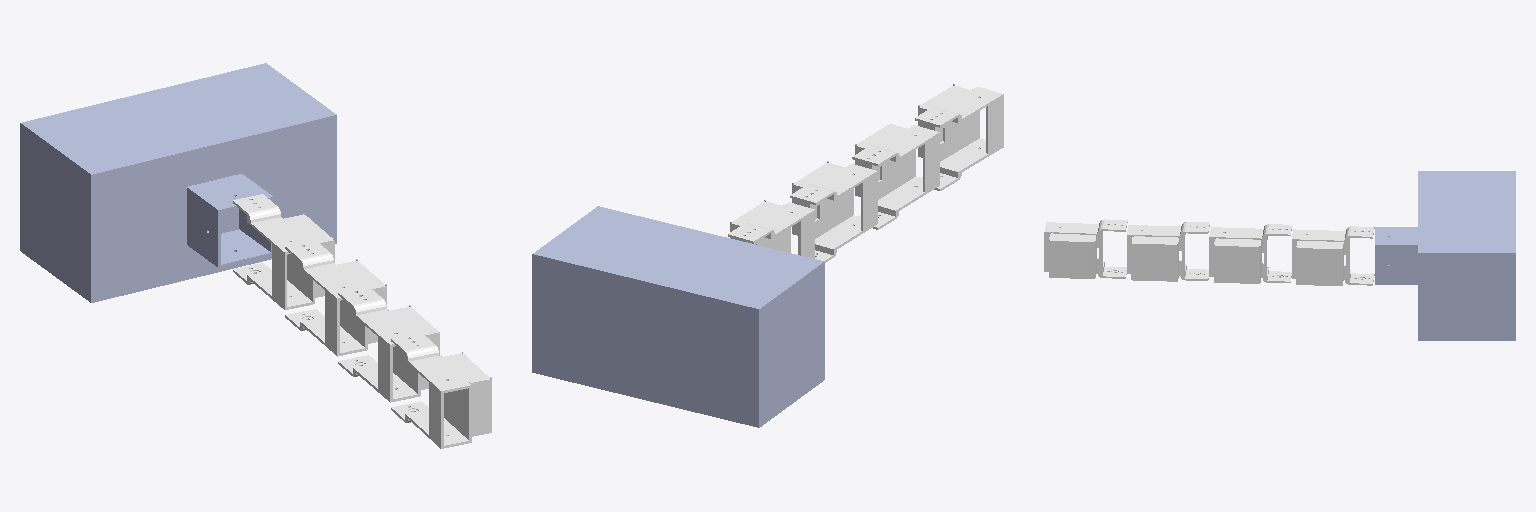
--- What the picture shows (computed from the rendered views, not written in the file) ---
The picture shows the robot from 3 angles, left to right: view 1: azimuth 30°, elevation 25°; view 2: azimuth 150°, elevation 25°; view 3: azimuth 270°, elevation 25°; orthographic projection.
Robot: robot — 21 links, 20 joints (4 revolute, 1 continuous, 15 fixed); root link base_link; default pose: all joints at 0.
Visible links, largest first — view 1: base_link, link4, link1, link2, link3; view 2: base_link, link4, link3, link2, link1; view 3: base_link, link4, link3, link2, link1.
Link boxes in pixels (x1,y1,x2,y2): base_link: (20, 63, 336, 302); link4: (391, 332, 491, 448); link1: (233, 194, 334, 309); link2: (285, 240, 386, 356); link3: (338, 286, 439, 402); base_link: (532, 206, 824, 427); link4: (915, 86, 1003, 190); link3: (852, 124, 939, 229); link2: (790, 163, 877, 262); link1: (728, 201, 814, 258); base_link: (1375, 171, 1515, 340); link4: (1044, 219, 1127, 278); link3: (1127, 222, 1209, 281); link2: (1209, 224, 1291, 283); link1: (1292, 226, 1374, 285).
Bounding box of the posed robot: 0.2 × 0.4851 × 0.1 m (x, y, z).
Meshes: 21 distinct files referenced, 20 mesh visuals loaded (20 binary STL); not drawn: 1 (reference not matched to a file when rendering).

URDF robot description (robot):
<?xml version="1.0" encoding="utf-8"?>
<!-- This URDF was automatically created by SolidWorks to URDF Exporter! Originally created by Stephen Brawner ([email redacted]) 
     Commit Version: 1.6.0-4-g7f85cfe  Build Version: 1.6.7995.38578
     For more information, please see http://wiki.ros.org/sw_urdf_exporter -->
<robot
  name="robot">
  <link
    name="base_link">
    <inertial>
      <origin
        xyz="0.0767869538456745 0.130679643791146 0.117001328831927"
        rpy="0 0 0" />
      <mass
        value="2.01544073009183" />
      <inertia
        ixx="0.00342121118023554"
        ixy="7.6215930437138E-20"
        ixz="-6.41720559009519E-19"
        iyy="0.00842121118023554"
        iyz="9.0429788488783E-20"
        izz="0.00834287663238851" />
    </inertial>
    <visual>
      <origin
        xyz="0 0 0"
        rpy="0 0 0" />
      <geometry>
        <mesh
          filename="package://robot/meshes/base_link.STL" />
      </geometry>
      <material
        name="">
        <color
          rgba="0.792156862745098 0.819607843137255 0.933333333333333 1" />
      </material>
    </visual>
    <collision>
      <origin
        xyz="0 0 0"
        rpy="0 0 0" />
      <geometry>
        <mesh
          filename="package://robot/meshes/base_link.STL" />
      </geometry>
    </collision>
  </link>
  <link
    name="link1">
    <inertial>
      <origin
        xyz="-0.0404047213887097 0.0154484736764687 -0.0276170125006411"
        rpy="0 0 0" />
      <mass
        value="0.0515137042914562" />
      <inertia
        ixx="1.69733943850497E-05"
        ixy="9.62296125977832E-07"
        ixz="6.49740529829731E-08"
        iyy="2.64576821046423E-05"
        iyz="1.35130974809218E-08"
        izz="2.12644109140584E-05" />
    </inertial>
    <visual>
      <origin
        xyz="0 0 0"
        rpy="0 0 0" />
      <geometry>
        <mesh
          filename="package://robot/meshes/link1.STL" />
      </geometry>
      <material
        name="">
        <color
          rgba="1 1 1 1" />
      </material>
    </visual>
    <collision>
      <origin
        xyz="0 0 0"
        rpy="0 0 0" />
      <geometry>
        <mesh
          filename="package://robot/meshes/link1.STL" />
      </geometry>
    </collision>
  </link>
  <joint
    name="joint1"
    type="revolute">
    <origin
      xyz="0.076787 -0.22445 0.10293"
      rpy="3.1416 0 1.4999" />
    <parent
      link="base_link" />
    <child
      link="link1" />
    <axis
      xyz="0 0 -1" />
    <limit
      lower="-3.14"
      upper="3.14"
      effort="100"
      velocity="1" />
  </joint>
  <link
    name="l11">
    <inertial>
      <origin
        xyz="-0.00424576271186444 0.0005 0.000500000000000014"
        rpy="0 0 0" />
      <mass
        value="9.9999999999999E-07" />
      <inertia
        ixx="1.66666666666666E-13"
        ixy="3.5759750509846E-30"
        ixz="-4.97771231194458E-28"
        iyy="1.66666666666663E-13"
        iyz="-3.4912381323187E-29"
        izz="1.66666666666662E-13" />
    </inertial>
    <visual>
      <origin
        xyz="0 0 0"
        rpy="0 0 0" />
      <geometry>
        <mesh
          filename="package://robot/meshes/l11.STL" />
      </geometry>
      <material
        name="">
        <color
          rgba="0.792156862745098 0.819607843137255 0.933333333333333 1" />
      </material>
    </visual>
    <collision>
      <origin
        xyz="0 0 0"
        rpy="0 0 0" />
      <geometry>
        <mesh
          filename="package://robot/meshes/l11.STL" />
      </geometry>
    </collision>
  </link>
  <joint
    name="j11"
    type="fixed">
    <origin
      xyz="-0.022746 0.03 -0.048625"
      rpy="-1.5708 0 -3.1416" />
    <parent
      link="link1" />
    <child
      link="l11" />
    <axis
      xyz="0 0 0" />
  </joint>
  <link
    name="l12">
    <inertial>
      <origin
        xyz="-0.00424576271186443 0.000499999999999973 0.0005"
        rpy="0 0 0" />
      <mass
        value="9.99999999999991E-07" />
      <inertia
        ixx="1.66666666666665E-13"
        ixy="8.08583006419564E-30"
        ixz="-3.38421328339814E-28"
        iyy="1.66666666666665E-13"
        iyz="1.2121848489944E-29"
        izz="1.66666666666665E-13" />
    </inertial>
    <visual>
      <origin
        xyz="0 0 0"
        rpy="0 0 0" />
      <geometry>
        <mesh
          filename="package://robot/meshes/l12.STL" />
      </geometry>
      <material
        name="">
        <color
          rgba="0.792156862745098 0.819607843137255 0.933333333333333 1" />
      </material>
    </visual>
    <collision>
      <origin
        xyz="0 0 0"
        rpy="0 0 0" />
      <geometry>
        <mesh
          filename="package://robot/meshes/l12.STL" />
      </geometry>
    </collision>
  </link>
  <joint
    name="j12"
    type="fixed">
    <origin
      xyz="-0.0650000000000002 0.0337457627118641 -0.0486249999999999"
      rpy="-1.5707963267949 0 1.5707963267949" />
    <parent
      link="link1" />
    <child
      link="l12" />
    <axis
      xyz="0 0 0" />
  </joint>
  <link
    name="l13">
    <inertial>
      <origin
        xyz="-0.0005 0.000500000000000111 -0.000570670988878433"
        rpy="0 0 0" />
      <mass
        value="1.00000000000001E-06" />
      <inertia
        ixx="1.66666666666669E-13"
        ixy="1.84061188400856E-27"
        ixz="2.34922777574817E-27"
        iyy="1.6666666666667E-13"
        iyz="1.03898364163633E-30"
        izz="1.6666666666667E-13" />
    </inertial>
    <visual>
      <origin
        xyz="0 0 0"
        rpy="0 0 0" />
      <geometry>
        <mesh
          filename="package://robot/meshes/l13.STL" />
      </geometry>
      <material
        name="">
        <color
          rgba="0.792156862745098 0.819607843137255 0.933333333333333 1" />
      </material>
    </visual>
    <collision>
      <origin
        xyz="0 0 0"
        rpy="0 0 0" />
      <geometry>
        <mesh
          filename="package://robot/meshes/l13.STL" />
      </geometry>
    </collision>
  </link>
  <joint
    name="j13"
    type="continuous">
    <origin
      xyz="-0.0660000000000003 0.0119293290111216 -0.0486249999999999"
      rpy="-1.5707963267949 0 3.14159265358979" />
    <parent
      link="link1" />
    <child
      link="l13" />
    <axis
      xyz="0 0 1" />
  </joint>
  <link
    name="l14">
    <inertial>
      <origin
        xyz="-0.00424576271186441 0.000500000000000014 0.000499999999999973"
        rpy="0 0 0" />
      <mass
        value="1.00000000000002E-06" />
      <inertia
        ixx="1.66666666666672E-13"
        ixy="-5.03882836800957E-31"
        ixz="7.29000328879928E-30"
        iyy="1.66666666666671E-13"
        iyz="2.52435489670724E-29"
        izz="1.66666666666671E-13" />
    </inertial>
    <visual>
      <origin
        xyz="0 0 0"
        rpy="0 0 0" />
      <geometry>
        <mesh
          filename="package://robot/meshes/l14.STL" />
      </geometry>
      <material
        name="">
        <color
          rgba="0.792156862745098 0.819607843137255 0.933333333333333 1" />
      </material>
    </visual>
    <collision>
      <origin
        xyz="0 0 0"
        rpy="0 0 0" />
      <geometry>
        <mesh
          filename="package://robot/meshes/l14.STL" />
      </geometry>
    </collision>
  </link>
  <joint
    name="j14"
    type="fixed">
    <origin
      xyz="-0.0179999999999998 0.0119999999999997 -0.0448792372881355"
      rpy="3.14159265358979 -1.5707963267949 0" />
    <parent
      link="link1" />
    <child
      link="l14" />
    <axis
      xyz="0 0 0" />
  </joint>
  <link
    name="link2">
    <inertial>
      <origin
        xyz="-0.0404047213887095 0.0154484736764683 -0.0273670125006411"
        rpy="0 0 0" />
      <mass
        value="0.0515137042914563" />
      <inertia
        ixx="1.69733943850497E-05"
        ixy="9.62296125977808E-07"
        ixz="6.49740529829652E-08"
        iyy="2.64576821046424E-05"
        iyz="1.35130974809183E-08"
        izz="2.12644109140584E-05" />
    </inertial>
    <visual>
      <origin
        xyz="0 0 0"
        rpy="0 0 0" />
      <geometry>
        <mesh
          filename="package://robot/meshes/link2.STL" />
      </geometry>
      <material
        name="">
        <color
          rgba="1 1 1 1" />
      </material>
    </visual>
    <collision>
      <origin
        xyz="0 0 0"
        rpy="0 0 0" />
      <geometry>
        <mesh
          filename="package://robot/meshes/link2.STL" />
      </geometry>
    </collision>
  </link>
  <joint
    name="joint2"
    type="revolute">
    <origin
      xyz="-0.085 0 0"
      rpy="0 0 0" />
    <parent
      link="link1" />
    <child
      link="link2" />
    <axis
      xyz="0 0 -1" />
    <limit
      lower="-3.14"
      upper="3.14"
      effort="100"
      velocity="1" />
  </joint>
  <link
    name="l21">
    <inertial>
      <origin
        xyz="-0.00424576271186439 0.000500000000000028 0.000500000000000056"
        rpy="0 0 0" />
      <mass
        value="1E-06" />
      <inertia
        ixx="1.66666666666668E-13"
        ixy="1.94577253656323E-28"
        ixz="1.56431117505327E-27"
        iyy="1.66666666666667E-13"
        iyz="9.96287180478988E-29"
        izz="1.66666666666666E-13" />
    </inertial>
    <visual>
      <origin
        xyz="0 0 0"
        rpy="0 0 0" />
      <geometry>
        <mesh
          filename="package://robot/meshes/l21.STL" />
      </geometry>
      <material
        name="">
        <color
          rgba="0.792156862745098 0.819607843137255 0.933333333333333 1" />
      </material>
    </visual>
    <collision>
      <origin
        xyz="0 0 0"
        rpy="0 0 0" />
      <geometry>
        <mesh
          filename="package://robot/meshes/l21.STL" />
      </geometry>
    </collision>
  </link>
  <joint
    name="j21"
    type="fixed">
    <origin
      xyz="-0.0180000000000003 0.0337457627118644 -0.0483749999999998"
      rpy="-1.5707963267949 0 1.5707963267949" />
    <parent
      link="link2" />
    <child
      link="l21" />
    <axis
      xyz="0 0 0" />
  </joint>
  <link
    name="l22">
    <inertial>
      <origin
        xyz="-0.00424576271186439 0.000500000000000028 0.000500000000000014"
        rpy="0 0 0" />
      <mass
        value="1.00000000000001E-06" />
      <inertia
        ixx="1.66666666666669E-13"
        ixy="-1.45943744114174E-29"
        ixz="2.35080549755862E-27"
        iyy="1.6666666666667E-13"
        iyz="3.04659969061029E-29"
        izz="1.6666666666667E-13" />
    </inertial>
    <visual>
      <origin
        xyz="0 0 0"
        rpy="0 0 0" />
      <geometry>
        <mesh
          filename="package://robot/meshes/l22.STL" />
      </geometry>
      <material
        name="">
        <color
          rgba="0.792156862745098 0.819607843137255 0.933333333333333 1" />
      </material>
    </visual>
    <collision>
      <origin
        xyz="0 0 0"
        rpy="0 0 0" />
      <geometry>
        <mesh
          filename="package://robot/meshes/l22.STL" />
      </geometry>
    </collision>
  </link>
  <joint
    name="j22"
    type="fixed">
    <origin
      xyz="-0.0697457627118645 0.0299999999999999 -0.0483749999999998"
      rpy="-1.5707963267949 0 -3.14159265358979" />
    <parent
      link="link2" />
    <child
      link="l22" />
    <axis
      xyz="0 0 0" />
  </joint>
  <link
    name="l23">
    <inertial>
      <origin
        xyz="-0.00424576271186444 0.000499999999999973 0.000499999999999973"
        rpy="0 0 0" />
      <mass
        value="9.99999999999999E-07" />
      <inertia
        ixx="1.66666666666665E-13"
        ixy="1.7607375404533E-27"
        ixz="-6.85915040546216E-30"
        iyy="1.66666666666668E-13"
        iyz="-5.40887263464013E-31"
        izz="1.66666666666666E-13" />
    </inertial>
    <visual>
      <origin
        xyz="0 0 0"
        rpy="0 0 0" />
      <geometry>
        <mesh
          filename="package://robot/meshes/l23.STL" />
      </geometry>
      <material
        name="">
        <color
          rgba="0.792156862745098 0.819607843137255 0.933333333333333 1" />
      </material>
    </visual>
    <collision>
      <origin
        xyz="0 0 0"
        rpy="0 0 0" />
      <geometry>
        <mesh
          filename="package://robot/meshes/l23.STL" />
      </geometry>
    </collision>
  </link>
  <joint
    name="j23"
    type="fixed">
    <origin
      xyz="-0.0697457627118642 0.0119999999999996 -0.0483750000000007"
      rpy="3.14159265358979 0 -3.14159265358979" />
    <parent
      link="link2" />
    <child
      link="l23" />
    <axis
      xyz="0 0 0" />
  </joint>
  <link
    name="l24">
    <inertial>
      <origin
        xyz="-0.00424576271184707 0.000499999999973244 0.000500000000000014"
        rpy="0 0 0" />
      <mass
        value="1.00000000000001E-06" />
      <inertia
        ixx="1.66666666666669E-13"
        ixy="-6.5455506841898E-28"
        ixz="2.05656037991118E-27"
        iyy="1.66666666666671E-13"
        iyz="3.92850989370063E-28"
        izz="1.66666666666669E-13" />
    </inertial>
    <visual>
      <origin
        xyz="0 0 0"
        rpy="0 0 0" />
      <geometry>
        <mesh
          filename="package://robot/meshes/l24.STL" />
      </geometry>
      <material
        name="">
        <color
          rgba="0.792156862745098 0.819607843137255 0.933333333333333 1" />
      </material>
    </visual>
    <collision>
      <origin
        xyz="0 0 0"
        rpy="0 0 0" />
      <geometry>
        <mesh
          filename="package://robot/meshes/l24.STL" />
      </geometry>
    </collision>
  </link>
  <joint
    name="j24"
    type="fixed">
    <origin
      xyz="-0.0227457627118562 0.0129999999999997 -0.0483750000000177"
      rpy="-1.5707963267949 0 -3.14159265358979" />
    <parent
      link="link2" />
    <child
      link="l24" />
    <axis
      xyz="0 0 0" />
  </joint>
  <link
    name="link3">
    <inertial>
      <origin
        xyz="-0.0404047213887101 0.015448473676468 -0.0271170125006416"
        rpy="0 0 0" />
      <mass
        value="0.0515137042914563" />
      <inertia
        ixx="1.69733943850497E-05"
        ixy="9.62296125977846E-07"
        ixz="6.49740529829482E-08"
        iyy="2.64576821046424E-05"
        iyz="1.35130974808098E-08"
        izz="2.12644109140585E-05" />
    </inertial>
    <visual>
      <origin
        xyz="0 0 0"
        rpy="0 0 0" />
      <geometry>
        <mesh
          filename="package://robot/meshes/link3.STL" />
      </geometry>
      <material
        name="">
        <color
          rgba="1 1 1 1" />
      </material>
    </visual>
    <collision>
      <origin
        xyz="0 0 0"
        rpy="0 0 0" />
      <geometry>
        <mesh
          filename="package://robot/meshes/link3.STL" />
      </geometry>
    </collision>
  </link>
  <joint
    name="joint3"
    type="revolute">
    <origin
      xyz="-0.085 0 0"
      rpy="0 0 0" />
    <parent
      link="link2" />
    <child
      link="link3" />
    <axis
      xyz="0 0 -1" />
    <limit
      lower="-3.14"
      upper="3.14"
      effort="100"
      velocity="1" />
  </joint>
  <link
    name="l31">
    <inertial>
      <origin
        xyz="-0.00424576271186444 0.000500000000000028 0.000499999999999973"
        rpy="0 0 0" />
      <mass
        value="1.00000000000001E-06" />
      <inertia
        ixx="1.66666666666669E-13"
        ixy="2.56746529381726E-29"
        ixz="2.38157107286223E-27"
        iyy="1.6666666666667E-13"
        iyz="1.57296505576981E-29"
        izz="1.6666666666667E-13" />
    </inertial>
    <visual>
      <origin
        xyz="0 0 0"
        rpy="0 0 0" />
      <geometry>
        <mesh
          filename="package://robot/meshes/l31.STL" />
      </geometry>
      <material
        name="">
        <color
          rgba="0.792156862745098 0.819607843137255 0.933333333333333 1" />
      </material>
    </visual>
    <collision>
      <origin
        xyz="0 0 0"
        rpy="0 0 0" />
      <geometry>
        <mesh
          filename="package://robot/meshes/l31.STL" />
      </geometry>
    </collision>
  </link>
  <joint
    name="j31"
    type="fixed">
    <origin
      xyz="-0.0227457627118653 0.0299999999999978 -0.0481250000000009"
      rpy="-1.57079632679487 0 -3.14159265358979" />
    <parent
      link="link3" />
    <child
      link="l31" />
    <axis
      xyz="0 0 0" />
  </joint>
  <link
    name="l32">
    <inertial>
      <origin
        xyz="-0.0042457627118644 0.000500000000000028 0.0005"
        rpy="0 0 0" />
      <mass
        value="1.00000000000001E-06" />
      <inertia
        ixx="1.6666666666667E-13"
        ixy="-9.19796940490373E-30"
        ixz="-2.33818372307508E-27"
        iyy="1.66666666666671E-13"
        iyz="-1.19338250791653E-29"
        izz="1.6666666666667E-13" />
    </inertial>
    <visual>
      <origin
        xyz="0 0 0"
        rpy="0 0 0" />
      <geometry>
        <mesh
          filename="package://robot/meshes/l32.STL" />
      </geometry>
      <material
        name="">
        <color
          rgba="0.792156862745098 0.819607843137255 0.933333333333333 1" />
      </material>
    </visual>
    <collision>
      <origin
        xyz="0 0 0"
        rpy="0 0 0" />
      <geometry>
        <mesh
          filename="package://robot/meshes/l32.STL" />
      </geometry>
    </collision>
  </link>
  <joint
    name="j32"
    type="fixed">
    <origin
      xyz="-0.0650000000000006 0.0167457627118633 -0.0481250000000004"
      rpy="-1.5707963267949 0 1.5707963267949" />
    <parent
      link="link3" />
    <child
      link="l32" />
    <axis
      xyz="0 0 0" />
  </joint>
  <link
    name="l33">
    <inertial>
      <origin
        xyz="-0.0042457627118644 0.000500000000000028 0.0005"
        rpy="0 0 0" />
      <mass
        value="1.00000000000001E-06" />
      <inertia
        ixx="1.6666666666667E-13"
        ixy="-9.19796940490375E-30"
        ixz="-2.33818372307508E-27"
        iyy="1.66666666666671E-13"
        iyz="-1.19338250791653E-29"
        izz="1.6666666666667E-13" />
    </inertial>
    <visual>
      <origin
        xyz="0 0 0"
        rpy="0 0 0" />
      <geometry>
        <mesh
          filename="package://robot/meshes/l33.STL" />
      </geometry>
      <material
        name="">
        <color
          rgba="0.792156862745098 0.819607843137255 0.933333333333333 1" />
      </material>
    </visual>
    <collision>
      <origin
        xyz="0 0 0"
        rpy="0 0 0" />
      <geometry>
        <mesh
          filename="package://robot/meshes/l33.STL" />
      </geometry>
    </collision>
  </link>
  <joint
    name="j33"
    type="fixed">
    <origin
      xyz="-0.0650000000000006 0.0167457627118633 -0.0481250000000004"
      rpy="-1.5707963267949 0 1.5707963267949" />
    <parent
      link="link3" />
    <child
      link="l33" />
    <axis
      xyz="0 0 0" />
  </joint>
  <link
    name="l34">
    <inertial>
      <origin
        xyz="-0.00424576271186461 0.0005 0.000499999999955703"
        rpy="0 0 0" />
      <mass
        value="9.99999999999994E-07" />
      <inertia
        ixx="1.66666666666665E-13"
        ixy="-6.29227027260607E-28"
        ixz="6.91480973098766E-28"
        iyy="1.66666666666666E-13"
        iyz="-4.84360595805701E-28"
        izz="1.66666666666665E-13" />
    </inertial>
    <visual>
      <origin
        xyz="0 0 0"
        rpy="0 0 0" />
      <geometry>
        <mesh
          filename="package://robot/meshes/l34.STL" />
      </geometry>
      <material
        name="">
        <color
          rgba="0.792156862745098 0.819607843137255 0.933333333333333 1" />
      </material>
    </visual>
    <collision>
      <origin
        xyz="0 0 0"
        rpy="0 0 0" />
      <geometry>
        <mesh
          filename="package://robot/meshes/l34.STL" />
      </geometry>
    </collision>
  </link>
  <joint
    name="j34"
    type="fixed">
    <origin
      xyz="-0.018000000000045 0.0129999999999988 -0.052870762711865"
      rpy="3.14159265358979 1.5707963267949 0" />
    <parent
      link="link3" />
    <child
      link="l34" />
    <axis
      xyz="0 0 0" />
  </joint>
  <link
    name="link4">
    <inertial>
      <origin
        xyz="-0.040404721388714 0.0154484736764674 -0.0268670125006414"
        rpy="0 0 0" />
      <mass
        value="0.0515137042914562" />
      <inertia
        ixx="1.69733943850496E-05"
        ixy="9.62296125977827E-07"
        ixz="6.4974052982973E-08"
        iyy="2.64576821046423E-05"
        iyz="1.35130974808312E-08"
        izz="2.12644109140584E-05" />
    </inertial>
    <visual>
      <origin
        xyz="0 0 0"
        rpy="0 0 0" />
      <geometry>
        <mesh
          filename="package://robot/meshes/link4.STL" />
      </geometry>
      <material
        name="">
        <color
          rgba="1 1 1 1" />
      </material>
    </visual>
    <collision>
      <origin
        xyz="0 0 0"
        rpy="0 0 0" />
      <geometry>
        <mesh
          filename="package://robot/meshes/link4.STL" />
      </geometry>
    </collision>
  </link>
  <joint
    name="joint4"
    type="revolute">
    <origin
      xyz="-0.085 0 0"
      rpy="0 0 0.018445" />
    <parent
      link="link3" />
    <child
      link="link4" />
    <axis
      xyz="0 0 -1" />
    <limit
      lower="-3.14"
      upper="3.14"
      effort="100"
      velocity="1" />
  </joint>
  <link
    name="l41">
    <inertial>
      <origin
        xyz="-0.00424576271186439 0.0005 0.000500000000000056"
        rpy="0 0 0" />
      <mass
        value="9.99999999999989E-07" />
      <inertia
        ixx="1.66666666666661E-13"
        ixy="1.65311288176915E-29"
        ixz="-3.49623153193952E-27"
        iyy="1.66666666666663E-13"
        iyz="-7.58790106341303E-30"
        izz="1.66666666666667E-13" />
    </inertial>
    <visual>
      <origin
        xyz="0 0 0"
        rpy="0 0 0" />
      <geometry>
        <mesh
          filename="package://robot/meshes/l41.STL" />
      </geometry>
      <material
        name="">
        <color
          rgba="0.792156862745098 0.819607843137255 0.933333333333333 1" />
      </material>
    </visual>
    <collision>
      <origin
        xyz="0 0 0"
        rpy="0 0 0" />
      <geometry>
        <mesh
          filename="package://robot/meshes/l41.STL" />
      </geometry>
    </collision>
  </link>
  <joint
    name="j41"
    type="fixed">
    <origin
      xyz="-0.0180000000000041 0.0337457627118618 -0.0478750000000007"
      rpy="-1.5707963267949 0 1.5707963267949" />
    <parent
      link="link4" />
    <child
      link="l41" />
    <axis
      xyz="0 0 0" />
  </joint>
  <link
    name="l42">
    <inertial>
      <origin
        xyz="-0.00424576271186439 0.0005 0.000500000000000167"
        rpy="0 0 0" />
      <mass
        value="9.99999999999989E-07" />
      <inertia
        ixx="1.66666666666661E-13"
        ixy="1.38404528458191E-29"
        ixz="-3.49780925374997E-27"
        iyy="1.66666666666663E-13"
        iyz="4.44577170669531E-30"
        izz="1.66666666666667E-13" />
    </inertial>
    <visual>
      <origin
        xyz="0 0 0"
        rpy="0 0 0" />
      <geometry>
        <mesh
          filename="package://robot/meshes/l42.STL" />
      </geometry>
      <material
        name="">
        <color
          rgba="0.792156862745098 0.819607843137255 0.933333333333333 1" />
      </material>
    </visual>
    <collision>
      <origin
        xyz="0 0 0"
        rpy="0 0 0" />
      <geometry>
        <mesh
          filename="package://robot/meshes/l42.STL" />
      </geometry>
    </collision>
  </link>
  <joint
    name="j42"
    type="fixed">
    <origin
      xyz="-0.0650000000000022 0.0337457627118601 -0.0478750000000005"
      rpy="-1.5707963267949 0 1.5707963267949" />
    <parent
      link="link4" />
    <child
      link="l42" />
    <axis
      xyz="0 0 0" />
  </joint>
  <link
    name="l43">
    <inertial>
      <origin
        xyz="-0.00424576271186441 0.000499999999999945 0.000500000000000028"
        rpy="0 0 0" />
      <mass
        value="1.00000000000006E-06" />
      <inertia
        ixx="1.66666666666689E-13"
        ixy="1.4272790295969E-28"
        ixz="2.42275704682493E-28"
        iyy="1.66666666666676E-13"
        iyz="-5.26959084687636E-28"
        izz="1.66666666666688E-13" />
    </inertial>
    <visual>
      <origin
        xyz="0 0 0"
        rpy="0 0 0" />
      <geometry>
        <mesh
          filename="package://robot/meshes/l43.STL" />
      </geometry>
      <material
        name="">
        <color
          rgba="0.792156862745098 0.819607843137255 0.933333333333333 1" />
      </material>
    </visual>
    <collision>
      <origin
        xyz="0 0 0"
        rpy="0 0 0" />
      <geometry>
        <mesh
          filename="package://robot/meshes/l43.STL" />
      </geometry>
    </collision>
  </link>
  <joint
    name="j43"
    type="fixed">
    <origin
      xyz="-0.065000000000004 0.0129999999999986 -0.044129237288136"
      rpy="1.5707963267949 -1.5707963267949 0" />
    <parent
      link="link4" />
    <child
      link="l43" />
    <axis
      xyz="0 0 0" />
  </joint>
  <link
    name="l44">
    <inertial>
      <origin
        xyz="-0.0042457627118644 0.000500000000000028 0.000500000000000056"
        rpy="0 0 0" />
      <mass
        value="1E-06" />
      <inertia
        ixx="1.66666666666665E-13"
        ixy="-2.18333366014784E-28"
        ixz="-1.64714157010147E-27"
        iyy="1.66666666666666E-13"
        iyz="-9.57093657315728E-29"
        izz="1.66666666666669E-13" />
    </inertial>
    <visual>
      <origin
        xyz="0 0 0"
        rpy="0 0 0" />
      <geometry>
        <mesh
          filename="package://robot/meshes/l44.STL" />
      </geometry>
      <material
        name="">
        <color
          rgba="0.792156862745098 0.819607843137255 0.933333333333333 1" />
      </material>
    </visual>
    <collision>
      <origin
        xyz="0 0 0"
        rpy="0 0 0" />
      <geometry>
        <mesh
          filename="package://robot/meshes/l44.STL" />
      </geometry>
    </collision>
  </link>
  <joint
    name="j44"
    type="fixed">
    <origin
      xyz="-0.018 0.016746 -0.047875"
      rpy="-1.5708 0 1.5708" />
    <parent
      link="link4" />
    <child
      link="l44" />
    <axis
      xyz="0 0 0" />
  </joint>
</robot>
